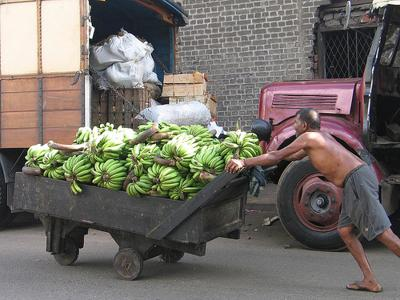person: (224, 106, 400, 293)
